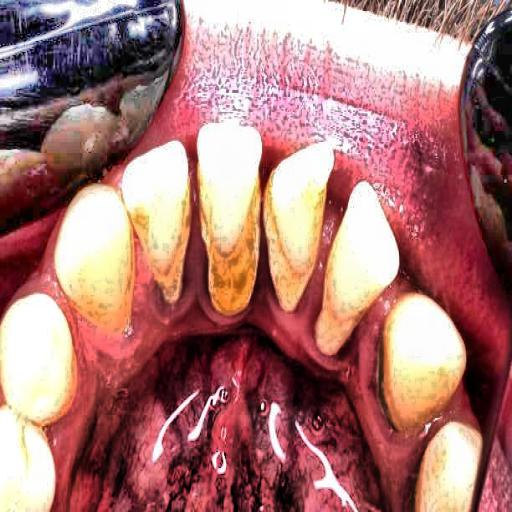Calculus: (98, 178, 374, 362)
